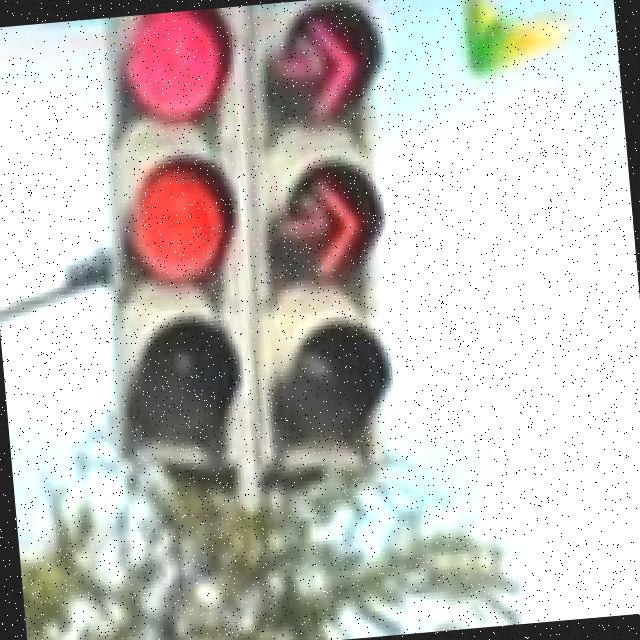Zolte swiatlo: (84, 10, 279, 498)
